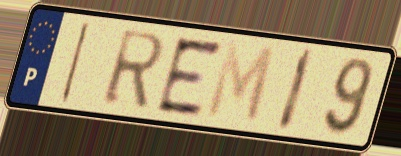9: (319, 54, 375, 139)
E: (154, 35, 225, 118)
I: (274, 45, 318, 135), (57, 19, 95, 105)
M: (203, 39, 278, 128)
R: (99, 27, 168, 110)
